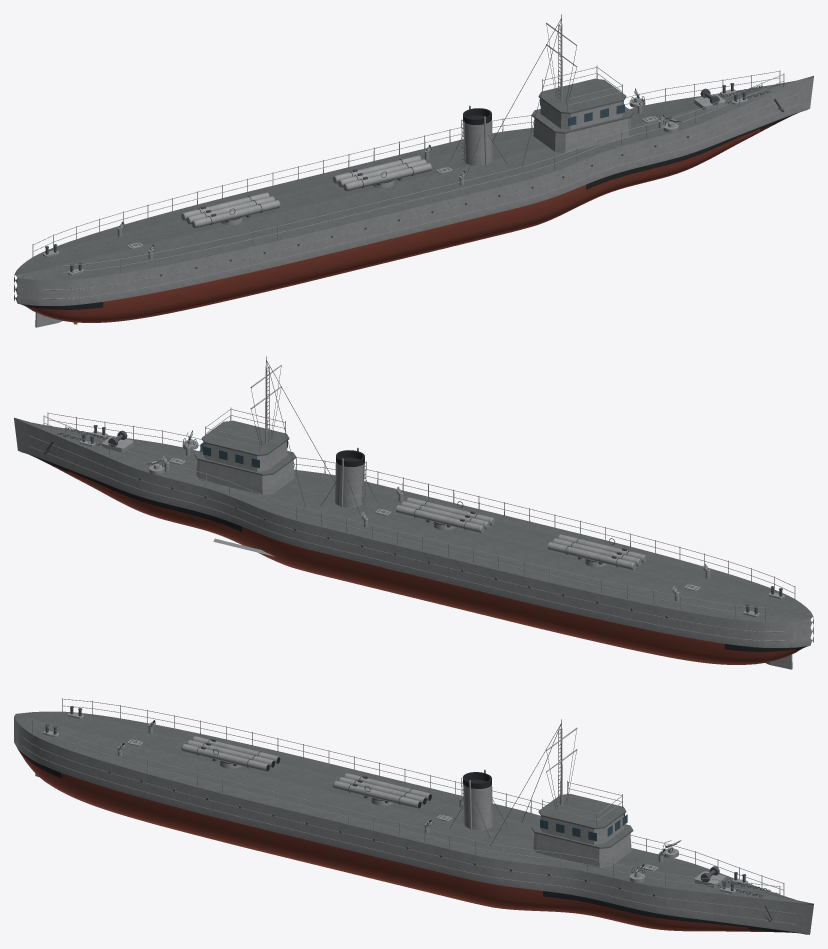
The model's file is ecole_pt32.glb.
The picture shows the model from 3 angles, top to bottom: view 1: azimuth 30°, elevation 25°; view 2: azimuth 150°, elevation 25°; view 3: azimuth 330°, elevation 25°; orthographic projection.
Parts seen in each view (by area): view 1: École coastal torpedo boat; view 2: École coastal torpedo boat; view 3: École coastal torpedo boat.
Part boxes in pixels (x1,y1,x2,y2): École coastal torpedo boat: (14, 14, 813, 327); École coastal torpedo boat: (14, 356, 813, 669); École coastal torpedo boat: (14, 698, 813, 934).
Size of the model in its own units: 62 by 13.89 by 7.89.
7 materials, 2 textured.
